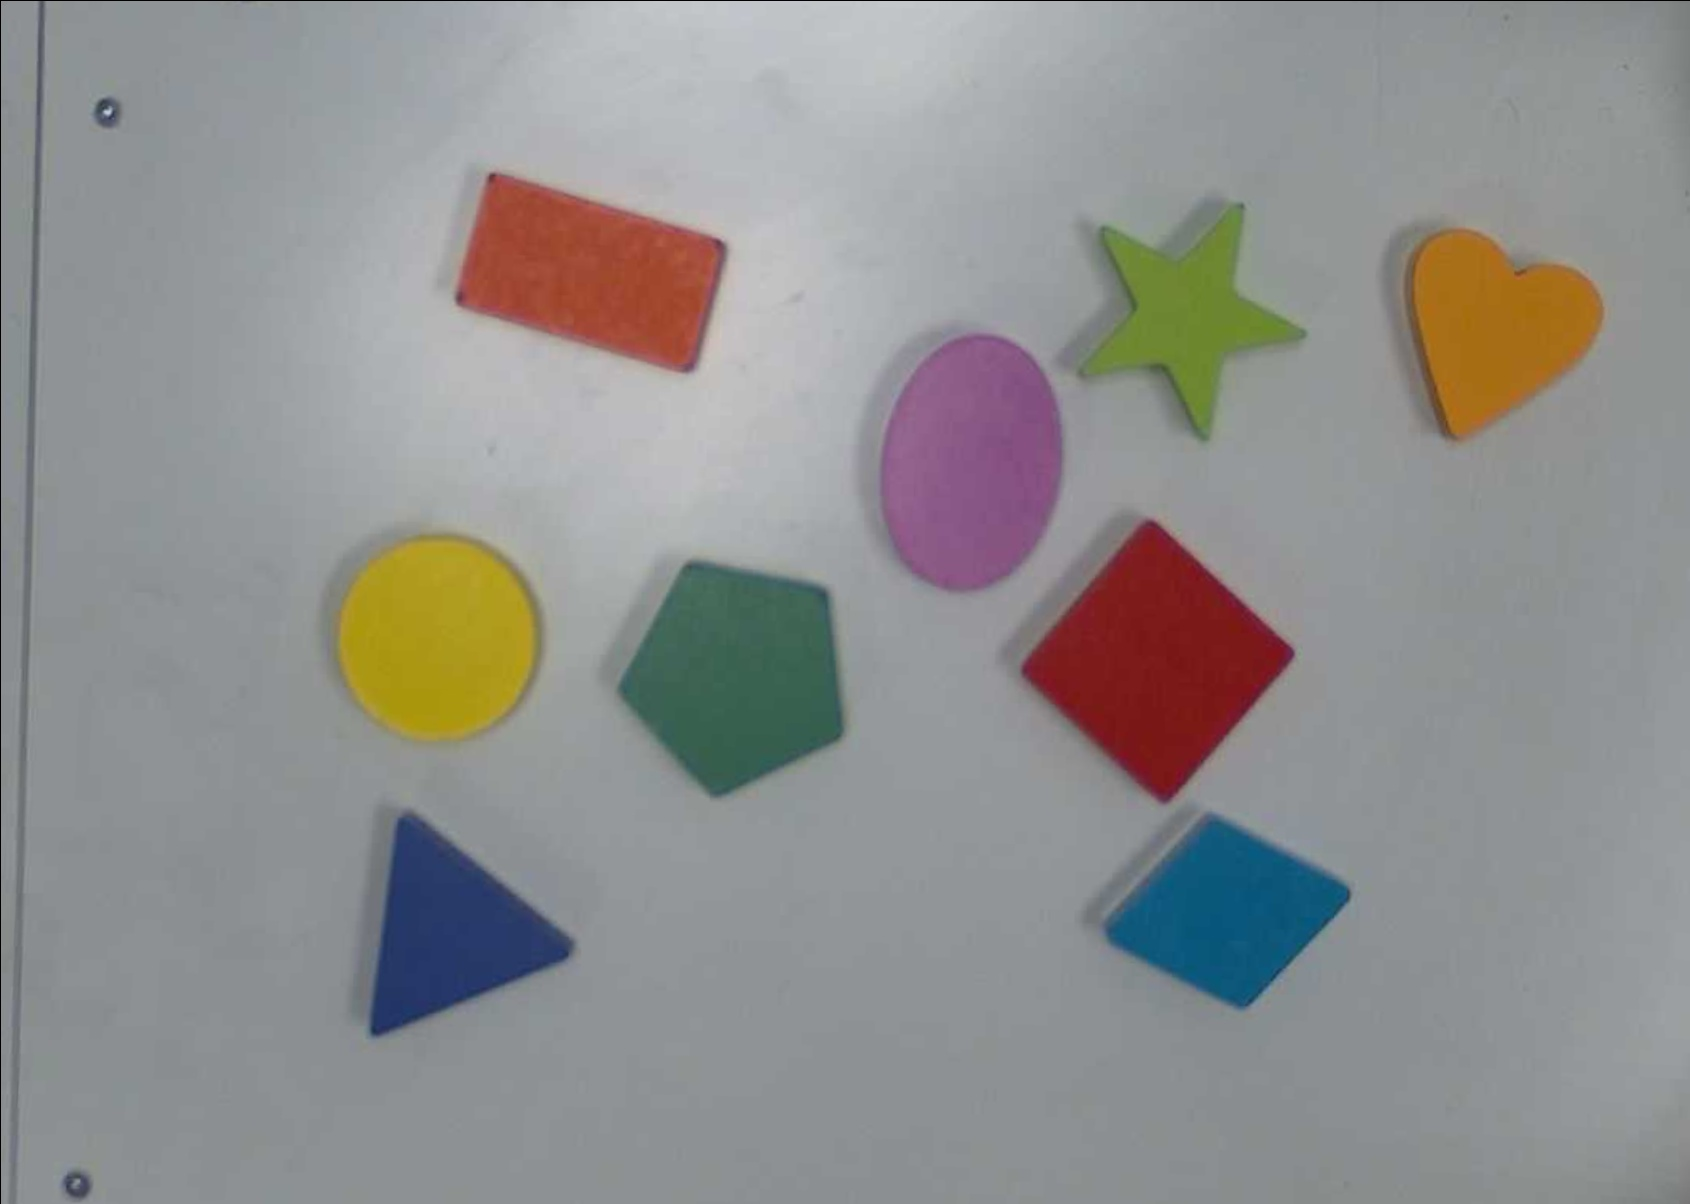Circle: (330, 532, 546, 747)
Ellipse: (876, 331, 1067, 590)
Heart: (1399, 233, 1608, 440)
Parallelogram: (1100, 803, 1359, 1007)
Pentagon: (611, 560, 848, 797)
Rectangle: (453, 171, 728, 374)
Square: (1018, 519, 1300, 805)
Star: (1076, 197, 1315, 437)
Triangle: (364, 810, 580, 1037)
